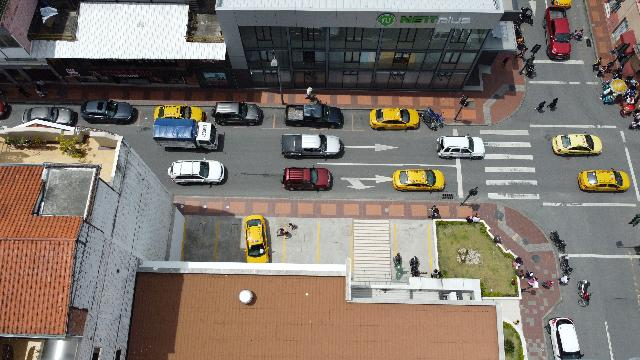Vehiculo: (152, 118, 218, 150), (545, 317, 583, 359), (168, 159, 226, 186), (543, 6, 571, 60), (282, 134, 344, 158), (284, 104, 344, 128), (80, 100, 134, 124), (578, 169, 630, 193), (393, 168, 445, 192), (281, 167, 333, 191), (437, 134, 485, 160), (211, 102, 263, 126), (244, 215, 270, 263), (552, 132, 602, 156), (22, 106, 78, 126), (370, 108, 420, 130), (154, 105, 206, 123), (552, 0, 572, 8)
